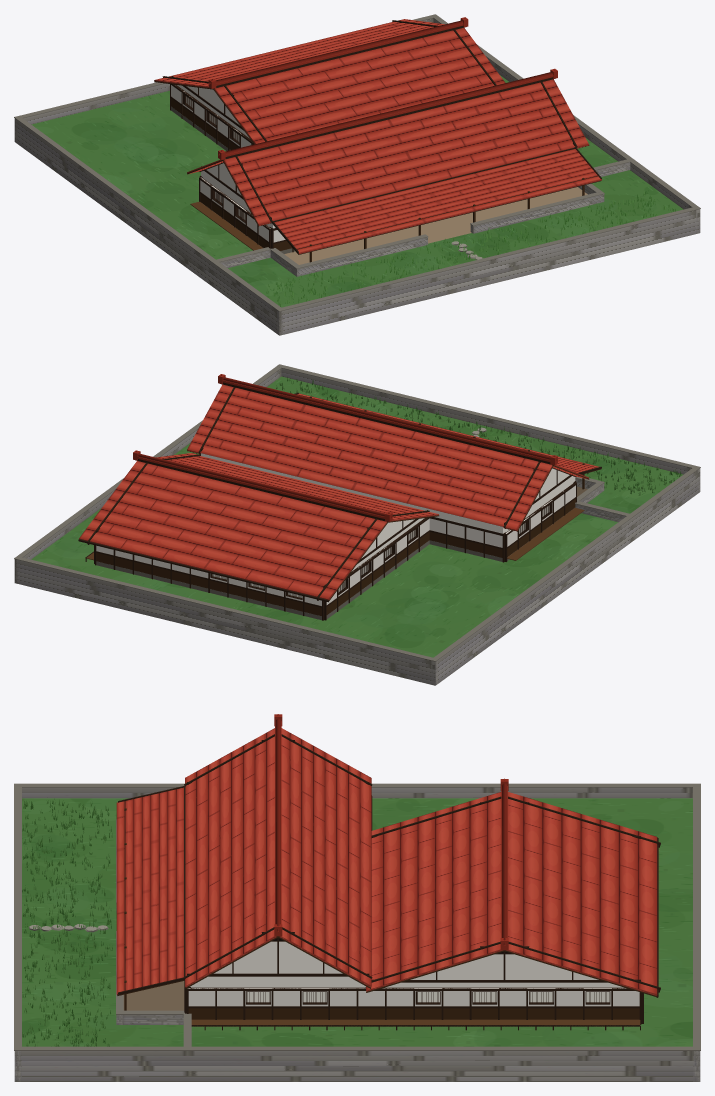
The model's file is Restaurant_Japonais.obj.
3 views of the same model, one above another, from view 1: azimuth 30°, elevation 25°; view 2: azimuth 150°, elevation 25°; view 3: azimuth 270°, elevation 25° (orthographic). The views are drawn at different scales.
Parts seen in each view (by area): view 1: obj1443, obj1093, obj1307, obj1358, obj1444, obj1448, obj1220, obj5, obj1445, obj1449, obj1446, obj1131 (+18 smaller); view 2: obj1443, obj980, obj1220, obj1446, obj1448, obj1444, obj1307, obj1445, obj1447, obj1449, obj239, obj982 (+18 smaller); view 3: obj1443, obj1220, obj1450, obj1307, obj980, obj1093, obj1358, obj361, obj1448, obj1113, obj1327, obj1451 (+12 smaller).
Boxes of the visible parts, x1,y1,x2,y2 form: obj1443: (31, 75, 683, 307); obj1093: (223, 79, 588, 225); obj1307: (214, 27, 505, 143); obj1358: (274, 149, 601, 254); obj1444: (277, 209, 700, 335); obj1448: (15, 119, 283, 334); obj1220: (154, 19, 444, 87); obj5: (284, 187, 587, 264); obj1445: (276, 206, 700, 311); obj1449: (14, 116, 284, 311); obj1446: (14, 18, 433, 143); obj1131: (225, 72, 552, 154); obj1443: (31, 376, 683, 657); obj980: (187, 384, 552, 531); obj1220: (79, 461, 387, 599); obj1446: (14, 559, 437, 685); obj1448: (431, 468, 700, 685); obj1444: (281, 368, 700, 492); obj1307: (156, 453, 438, 521); obj1445: (276, 364, 700, 469); obj1447: (14, 556, 437, 661); obj1449: (430, 468, 697, 661); obj239: (172, 571, 321, 616); obj982: (201, 453, 504, 533); obj1443: (22, 798, 692, 1046); obj1220: (506, 792, 657, 995); obj1450: (15, 1051, 700, 1081); obj1307: (366, 792, 502, 991); obj980: (280, 728, 371, 987); obj1093: (185, 728, 276, 987); obj1358: (116, 787, 183, 994); obj361: (188, 1008, 639, 1019); obj1448: (22, 787, 692, 798); obj1113: (190, 941, 365, 987); obj1327: (385, 954, 623, 987); obj1451: (14, 1046, 700, 1050).
Size of the model in its own units: 55.7 by 12.65 by 60.7.
Materials: 34 (13 with a texture image).
